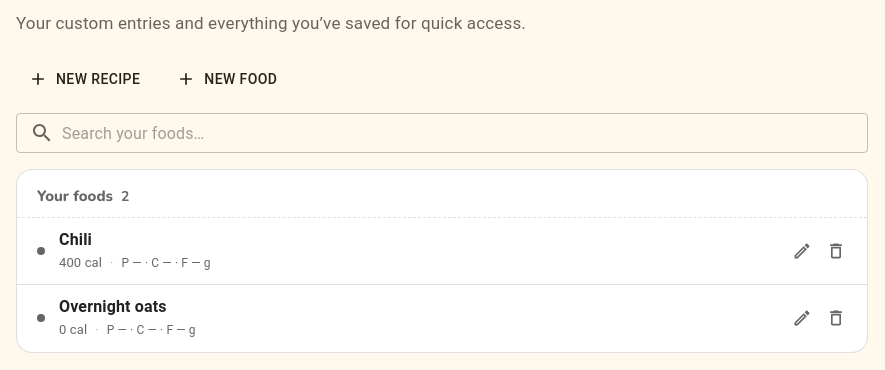
Scenario: My Foods search › filters rows that carry no source instead of crashing
Type "oat" into the field with placeholder "Search your foods…" at (465, 133), box [62,113,868,153]
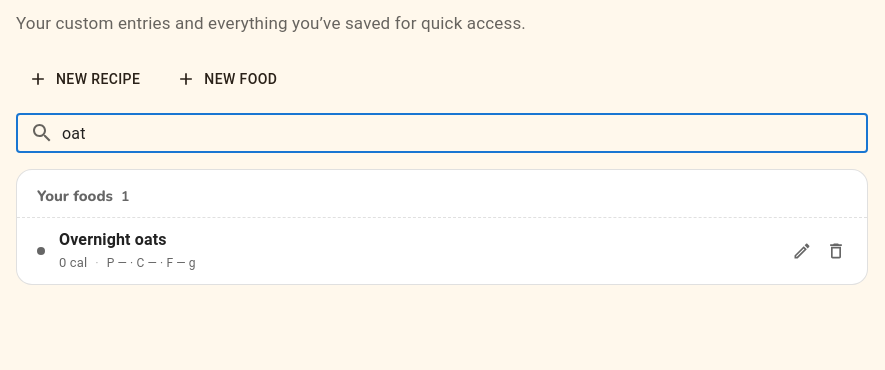
Check: the text "Overnight oats" is shown, box [59,230,167,249]
Check: the text "Chili" is gone
